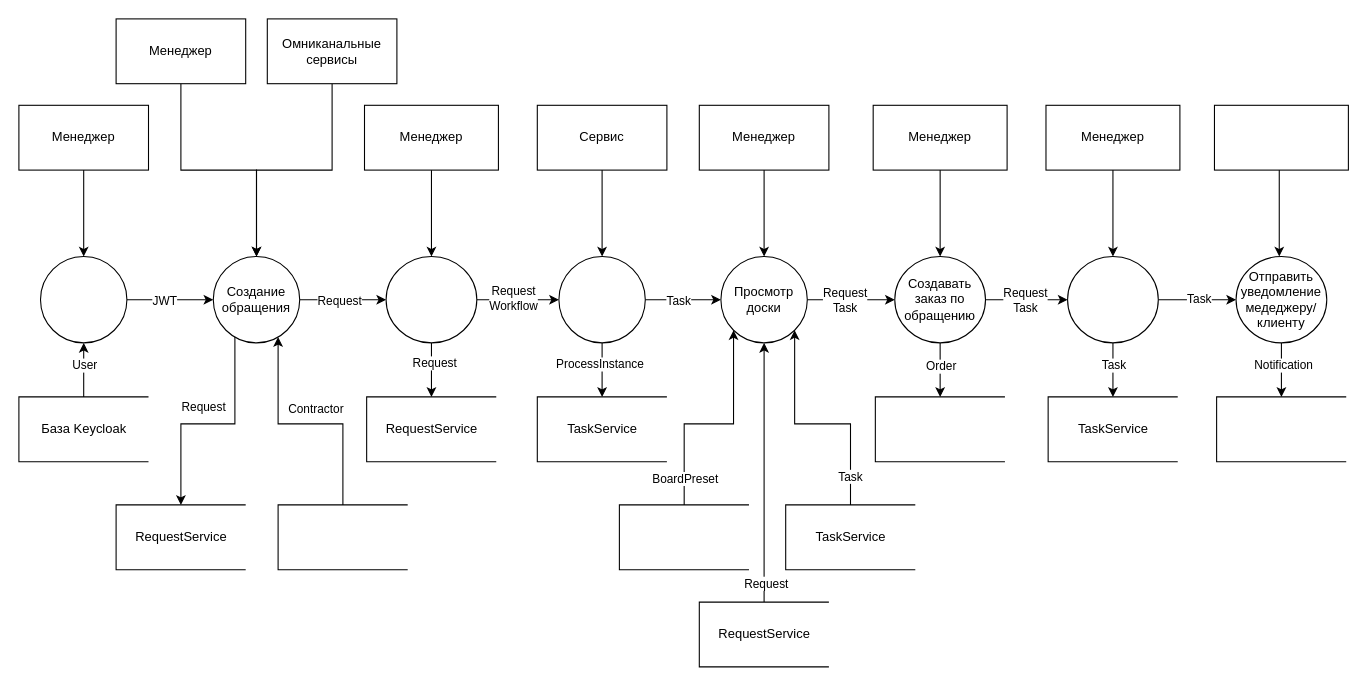
Some shapes in this 1367 by 686 pixel diagram are drawn without their labels. Each missing label, with the centre of its shape:
"BoardService" belongs at [683,537].
"ContractorService" belongs at [342,537].
"Cервис" belongs at [1280,137].
"NotificationService" belongs at [1281,429].
"OrderService" belongs at [939,429].
"Аутенти-фикация" belongs at [83,299].
"Завершить задачу" belongs at [1112,299].
"Запуск процесса" belongs at [601,299].
"Классификация обращений" belongs at [431,299].
